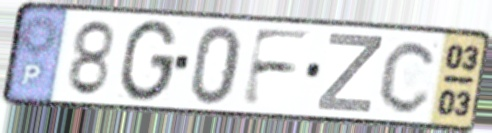0: (187, 23, 245, 107)
8: (66, 18, 117, 98)
C: (376, 37, 441, 116)
F: (238, 26, 315, 109)
G: (115, 17, 180, 105)
Z: (313, 31, 386, 116)
